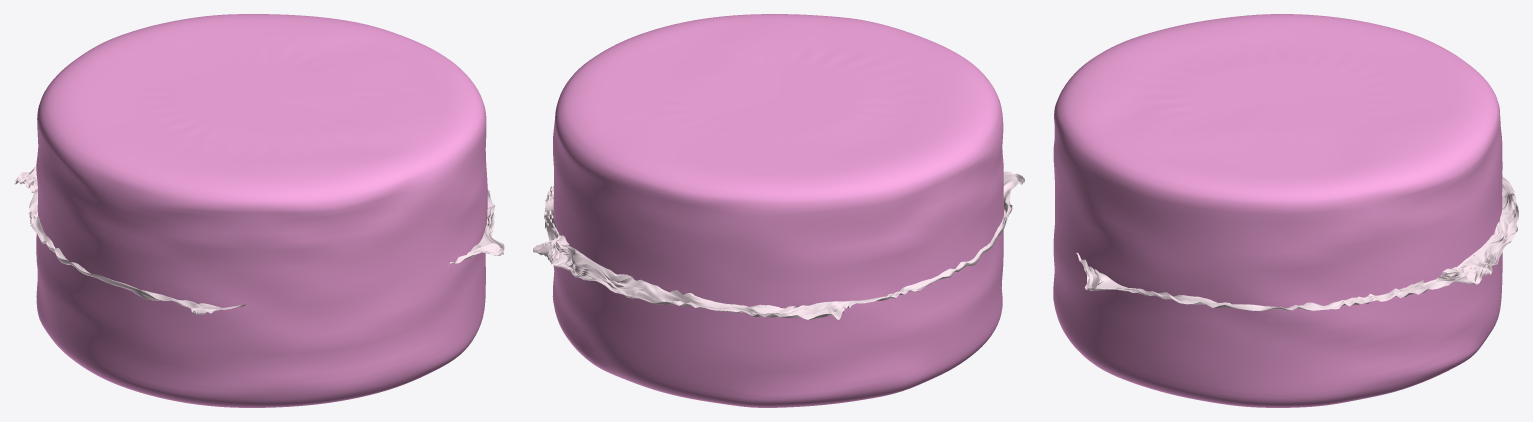
3 renders of one model, left to right at view 1: azimuth 30°, elevation 25°; view 2: azimuth 150°, elevation 25°; view 3: azimuth 270°, elevation 25°, orthographic.
Parts seen in each view (by area): view 1: Materiais_004-material, split_parent_0; view 2: Materiais_004-material, split_parent_0; view 3: Materiais_004-material, split_parent_0.
Part boxes in pixels (x1,y1,x2,y2): Materiais_004-material: (36,14,487,407); split_parent_0: (14,166,504,314); Materiais_004-material: (552,14,1003,407); split_parent_0: (533,171,1024,320); Materiais_004-material: (1053,14,1502,407); split_parent_0: (1076,175,1518,311).
Size of the model in its own units: 0.9917 by 0.5319 by 1.
